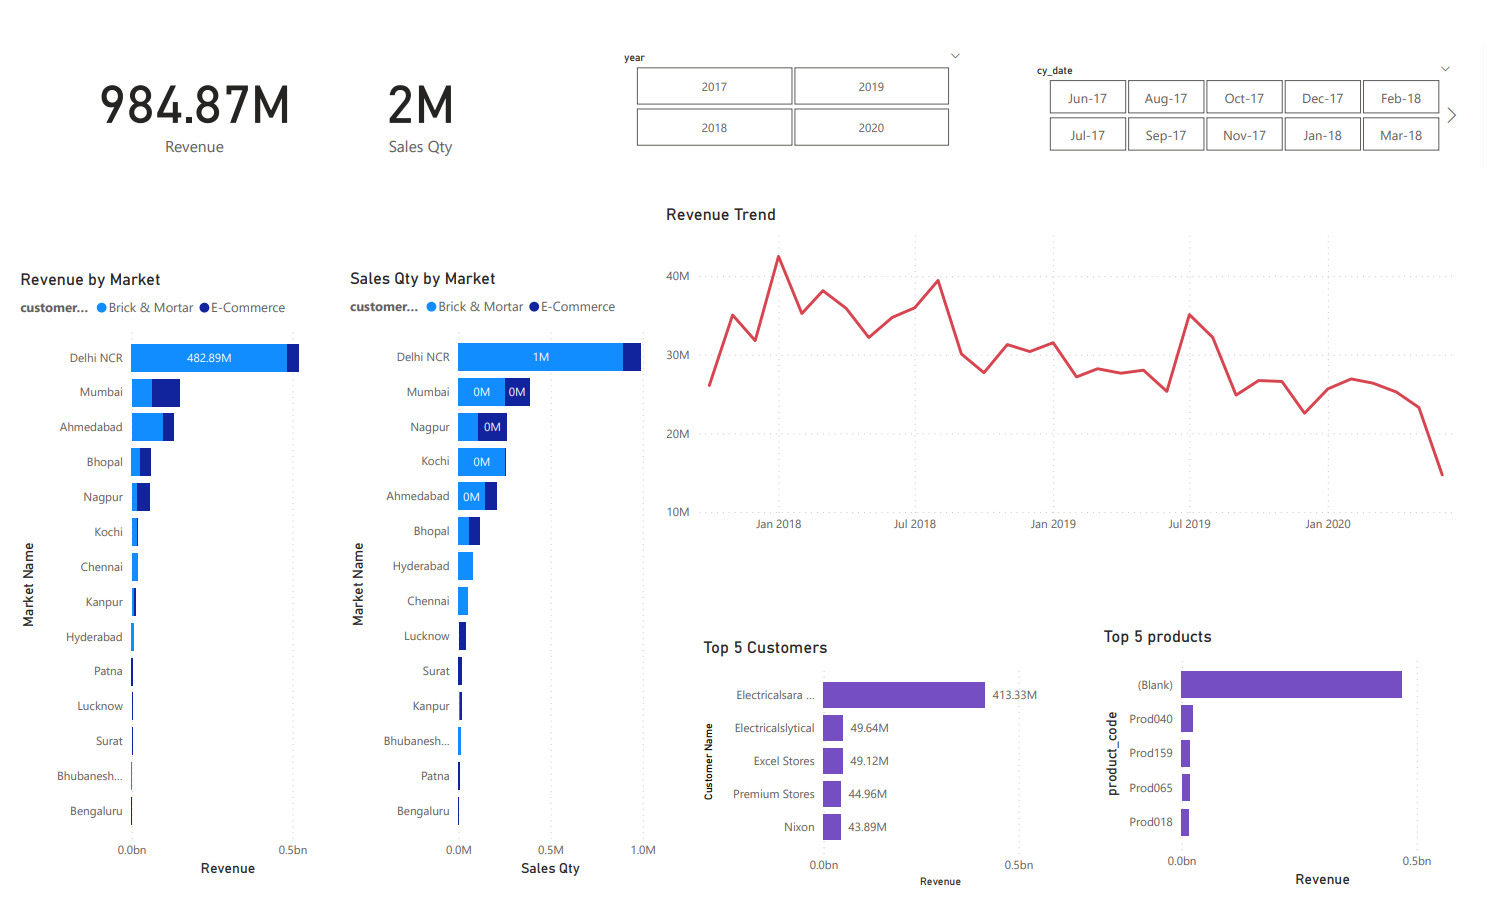

What the dashboard file says about the page in this screenshot:
{"tool":"powerbi","page":{"name":"Key Insights","canvas":[1500,900],"ordinal":0},"visuals":[{"type":"card","fields":{"Values":["BaseMeasures.Revenue"]},"box":[64.3,37,238,125.4],"z":0},{"type":"card","fields":{"Values":["BaseMeasures.Sales Qty"]},"box":[302.3,37,223.5,125.4],"z":1000},{"type":"barChart","title":"Top 5 Customers","fields":{"Y":["BaseMeasures.Revenue"],"Category":["sales customers.custmer_name"]},"box":[698.3,640,386.7,260],"z":2000},{"type":"slicer","fields":{"Values":["sales date.year"]},"box":[609.5,37,368.2,107.7],"z":3000},{"type":"slicer","fields":{"Values":["sales date.cy_date"]},"box":[1030.8,49.9,448.7,99.7],"z":4000},{"type":"barChart","title":"Revenue by Market","fields":{"Category":["sales markets.markets_name"],"Y":["BaseMeasures.Revenue"],"Series":["sales customers.customer_type"]},"box":[0,263.7,336.1,623.9],"z":5000},{"type":"barChart","title":"Sales Qty by Market","fields":{"Y":["BaseMeasures.Sales Qty"],"Category":["sales markets.markets_name"],"Series":["sales customers.customer_type"]},"box":[336.7,263.3,323.3,625],"z":6000},{"type":"barChart","title":"Top 5 products","fields":{"Y":["BaseMeasures.Revenue"],"Category":["sales products.product_code"]},"box":[1106.7,628.3,393.3,271.7],"z":7000},{"type":"lineChart","title":"Revenue Trend","fields":{"Y":["BaseMeasures.Revenue"],"Category":["sales date.cy_date.Variation.Date Hierarchy.Year","sales date.cy_date.Variation.Date Hierarchy.Quarter","sales date.cy_date.Variation.Date Hierarchy.Month","sales date.cy_date.Variation.Date Hierarchy.Day"]},"box":[660,198.3,826.7,343.3],"z":8000}]}

Visuals, with their boxes in screenshot pixels (x1, y1, x2, y2), scaled from the page's 1500x900 canvas onto the 1491x900 screenshot:
card - BaseMeasures.Revenue: crop(64, 37, 300, 162)
card - BaseMeasures.Sales Qty: crop(300, 37, 523, 162)
"Top 5 Customers" barChart: crop(694, 640, 1078, 899)
slicer - sales date.year: crop(606, 37, 972, 145)
slicer - sales date.cy_date: crop(1025, 50, 1471, 150)
"Revenue by Market" barChart: crop(0, 264, 334, 888)
"Sales Qty by Market" barChart: crop(335, 263, 656, 888)
"Top 5 products" barChart: crop(1100, 628, 1490, 899)
"Revenue Trend" lineChart: crop(656, 198, 1478, 542)
